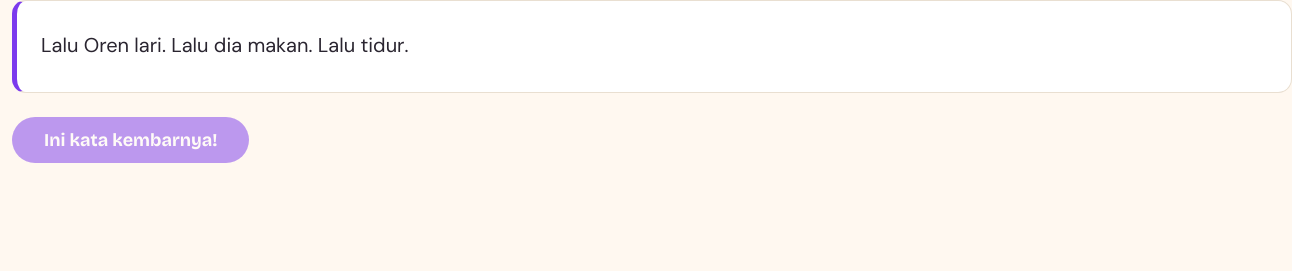
DetektorKembar › menyalakan semua kata yang sama dan menghitungnya
Click the 2nd button "Lalu" at (190, 46), box [171,25,208,68]
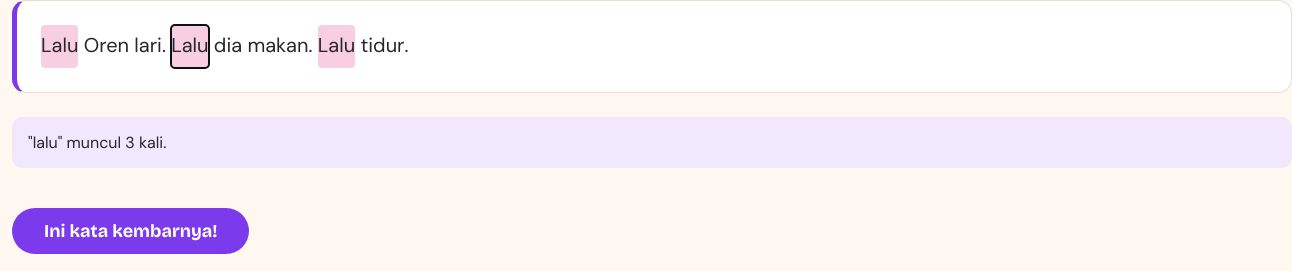
Check: the message reads "\"lalu\" muncul 3 kali.", box [28,132,166,153]
Click the button "Ini kata kembarnya!" at (131, 231), box [12,208,250,254]
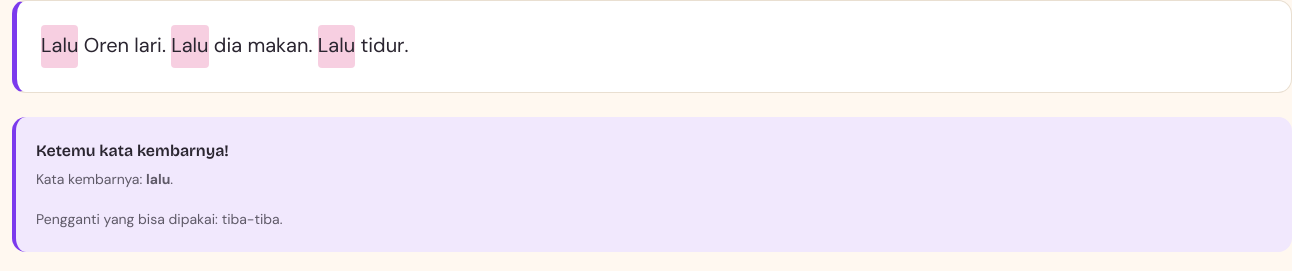
Check: the text "lalu" is shown, box [146,170,170,188]
Check: the text "Pengganti yang bisa dipakai: tiba-tiba." is shown, box [36,210,282,228]
